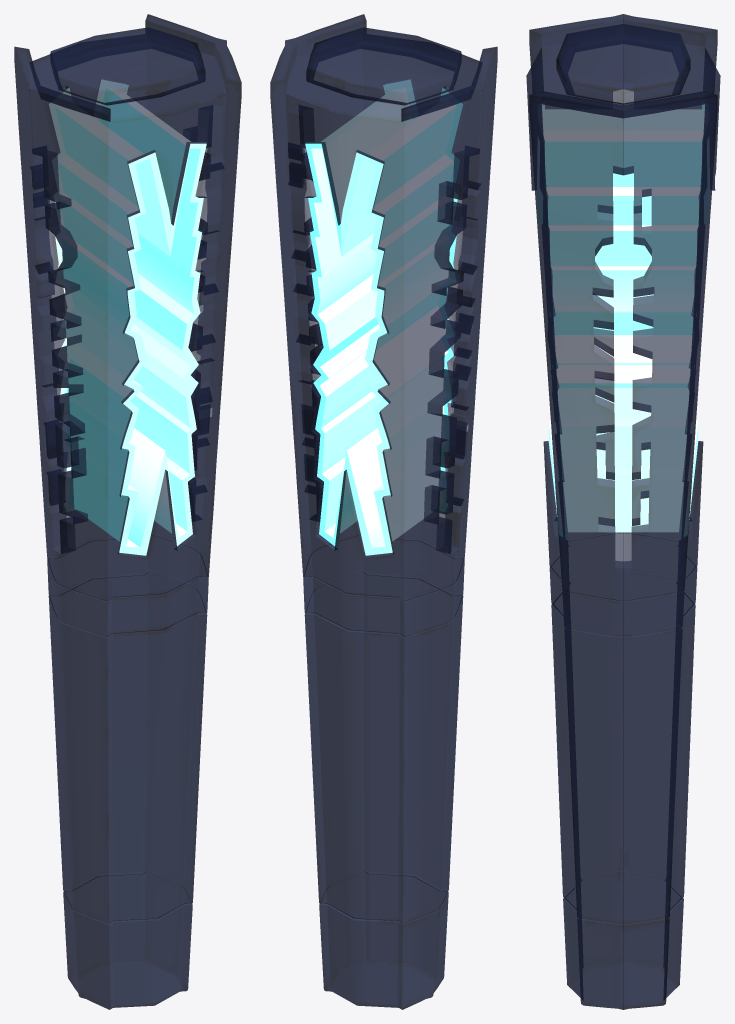
File: P26_T04_LS_LESSERAFIM_LIT.glb
3 renders of one model, left to right at view 1: azimuth 30°, elevation 25°; view 2: azimuth 150°, elevation 25°; view 3: azimuth 270°, elevation 25°, orthographic.
Parts seen in each view (by area): view 1: LESSERAFIM, LESSERAFIM_LICHT; view 2: LESSERAFIM, LESSERAFIM_LICHT; view 3: LESSERAFIM, LESSERAFIM_LICHT.
Part boxes in pixels (x1=…): LESSERAFIM: x1=14, y1=14, x2=241, y2=1009; LESSERAFIM_LICHT: x1=49, y1=79, x2=206, y2=555; LESSERAFIM: x1=270, y1=14, x2=497, y2=1009; LESSERAFIM_LICHT: x1=305, y1=79, x2=462, y2=555; LESSERAFIM: x1=526, y1=14, x2=720, y2=1009; LESSERAFIM_LICHT: x1=537, y1=104, x2=709, y2=539.
Size of the model in its own units: 0.13 by 0.5815 by 0.11.
Materials: 2 (1 with a texture image).
